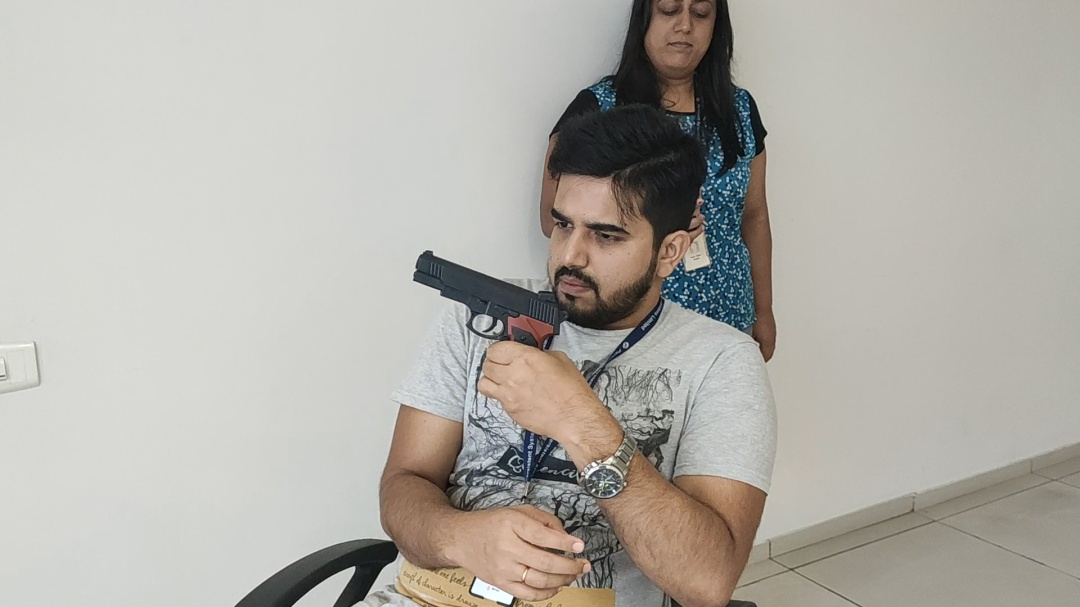gun: (411, 249, 563, 354)
